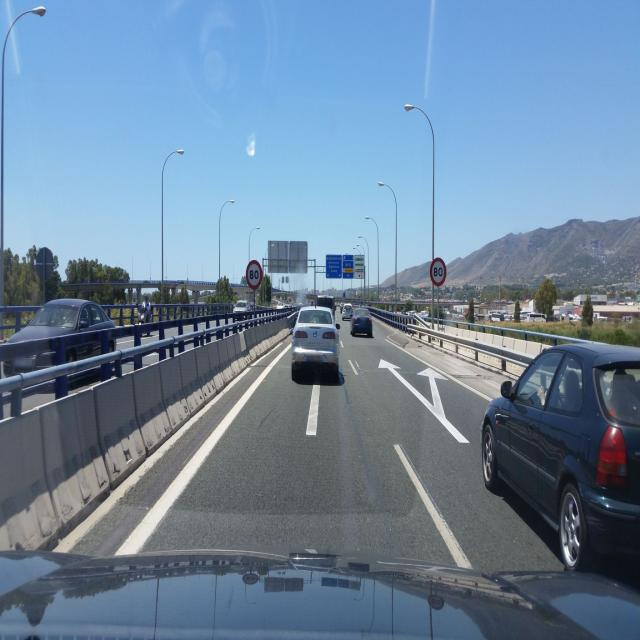car: (481, 340, 640, 584), (0, 298, 118, 377), (290, 305, 340, 383), (350, 308, 373, 338), (232, 299, 251, 318), (522, 310, 548, 322), (342, 306, 354, 322)
